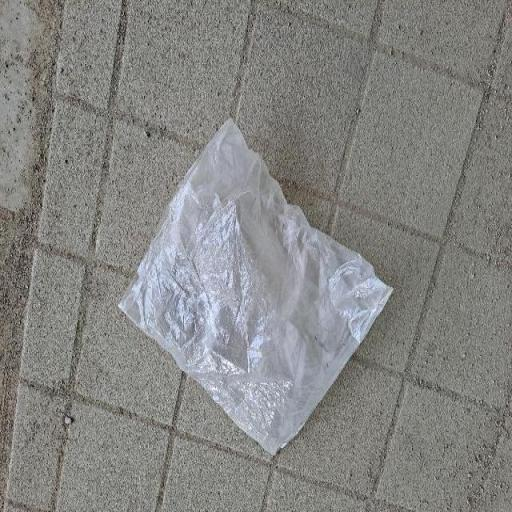plastic-bag: (115, 115, 399, 458)
